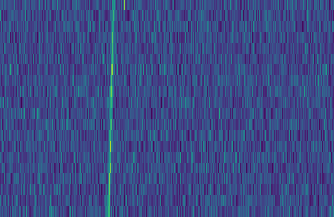signal: (102, 0, 115, 217)
